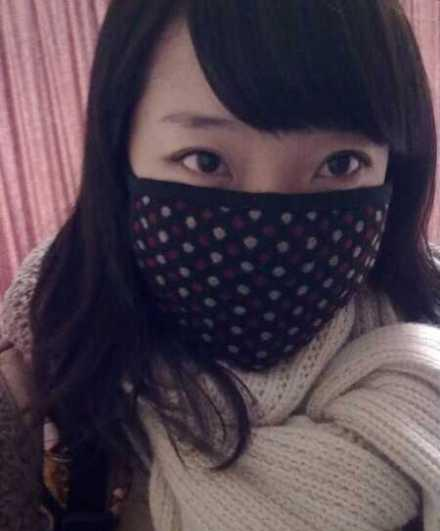OK: (131, 118, 391, 356)
